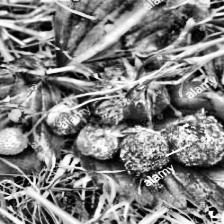Gray Mold: (156, 113, 224, 167), (120, 126, 171, 176), (76, 122, 128, 160), (47, 103, 87, 136), (87, 96, 129, 126)
